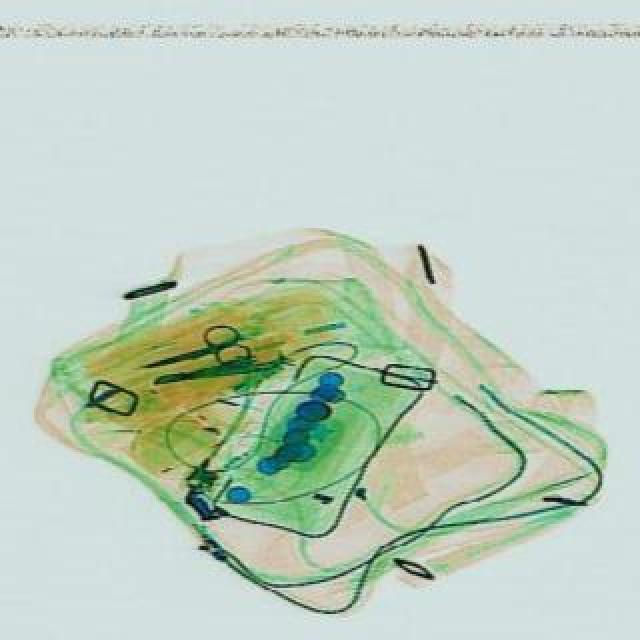pliers: (140, 316, 258, 388)
